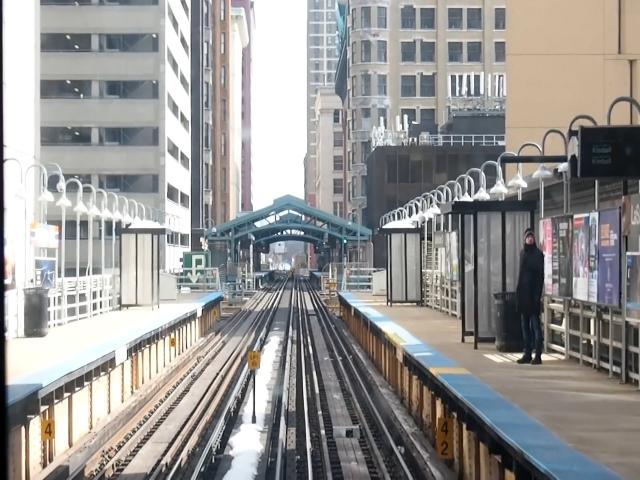signal light: (343, 239, 350, 259)
